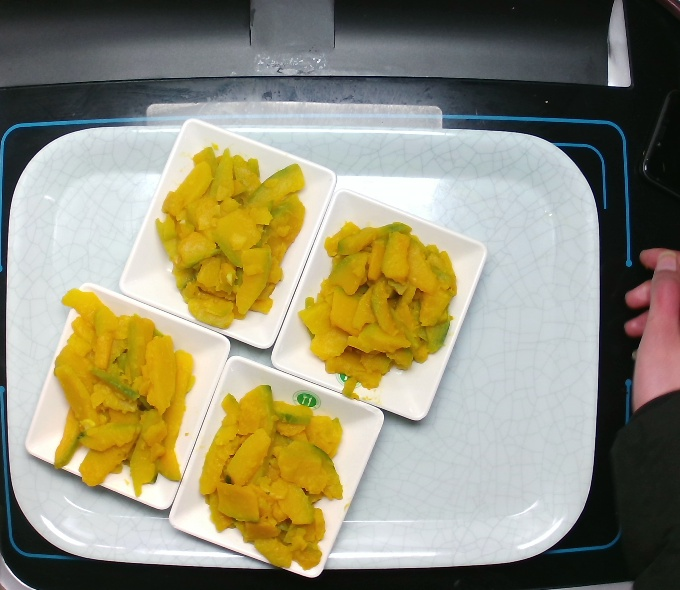wcq-NanGuaPian: (28, 276, 203, 496), (293, 218, 467, 409), (197, 380, 357, 577), (155, 144, 312, 331)
